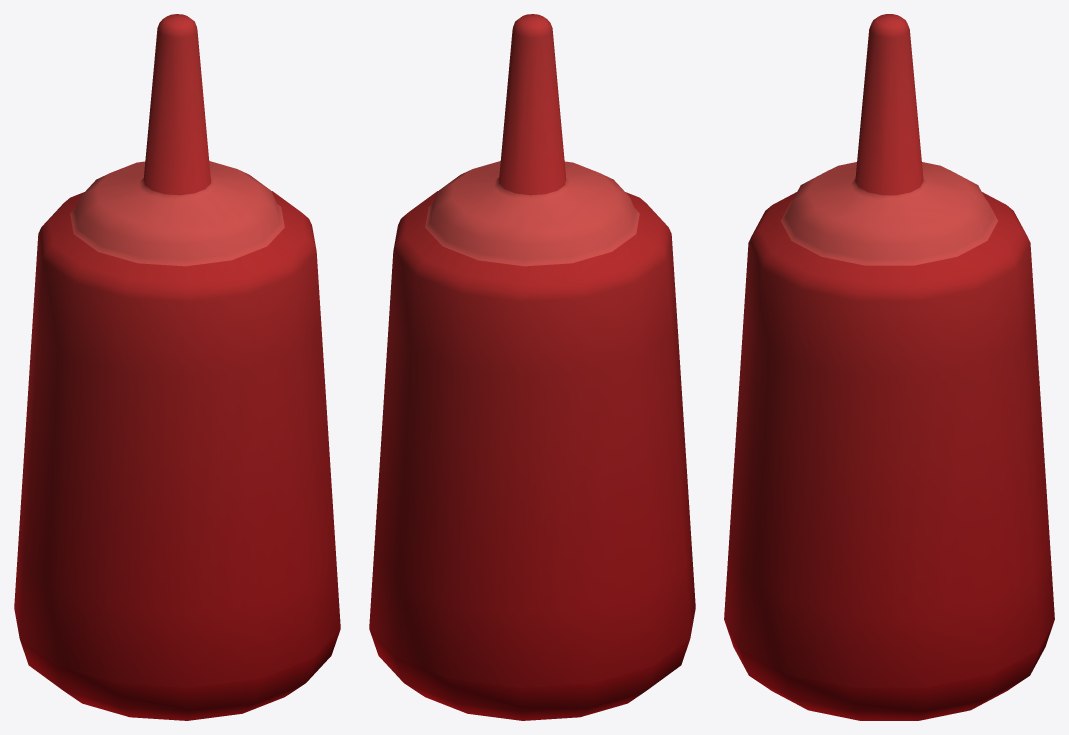
File: Sauce Bottle.glb
The picture shows the model from 3 angles, left to right: view 1: azimuth 30°, elevation 25°; view 2: azimuth 150°, elevation 25°; view 3: azimuth 270°, elevation 25°; orthographic projection.
Visible parts, largest first — view 1: CatchUp_Bottle; view 2: CatchUp_Bottle; view 3: CatchUp_Bottle.
Part boxes in pixels (x1,y1,x2,y2): CatchUp_Bottle: (14,14,340,720); CatchUp_Bottle: (369,14,695,720); CatchUp_Bottle: (724,14,1054,720).
Bounding box in the file's own units: 0.6811 × 1.53 × 0.6986.
1 material, 1 textured.
